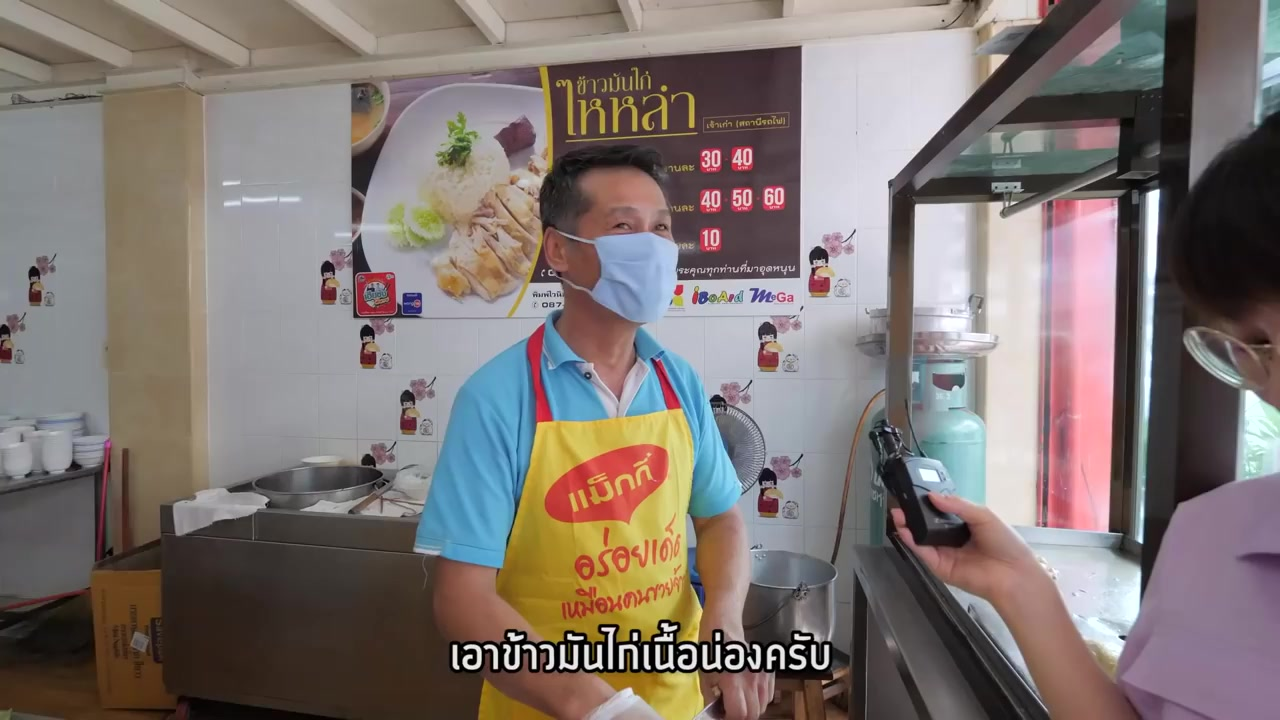text-label: (448, 614, 835, 672)
